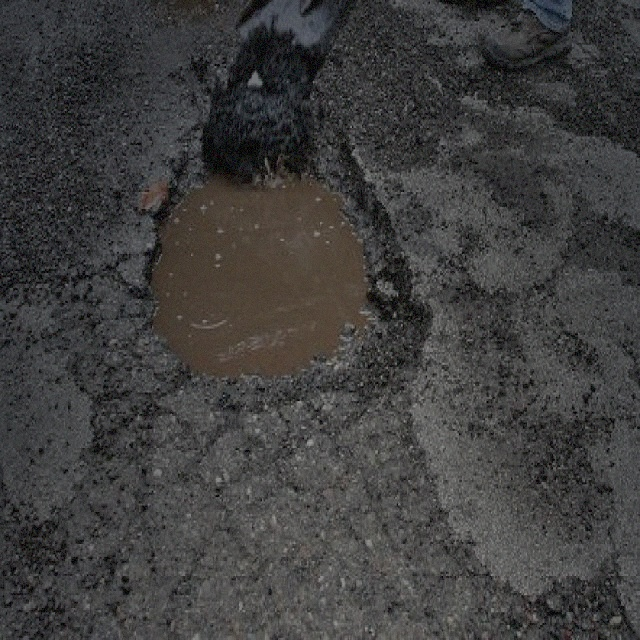pothole: (136, 106, 433, 426)
